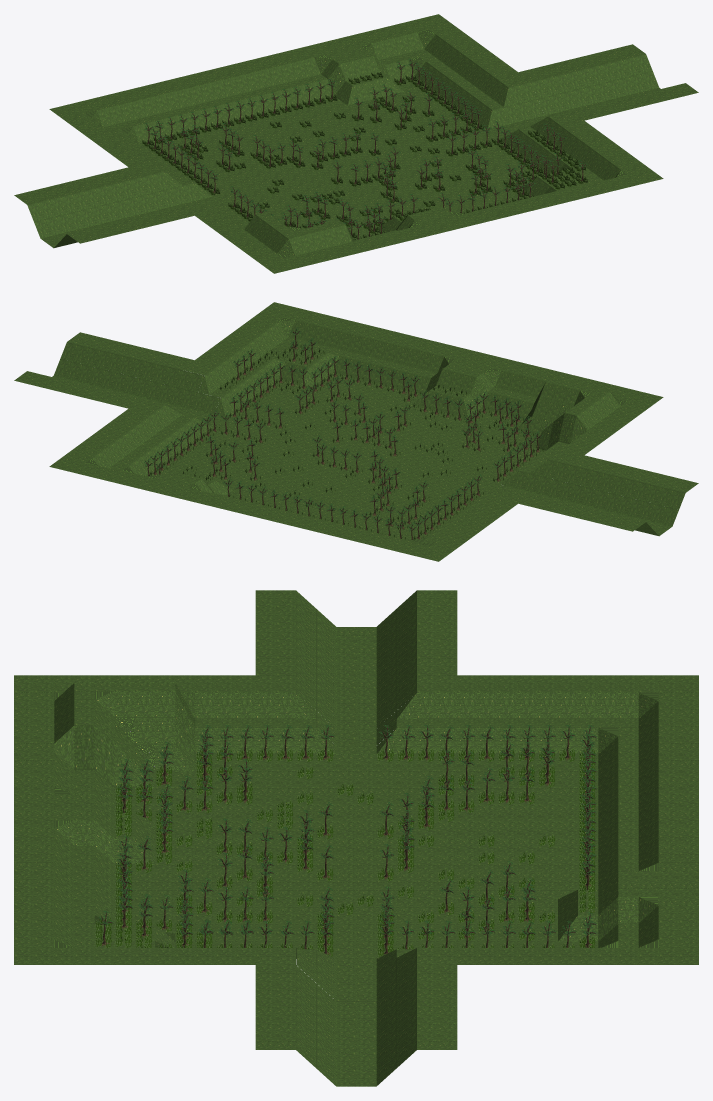
The model's file is forest4.fbx.
3 views of the same model, one above another, from view 1: azimuth 30°, elevation 25°; view 2: azimuth 150°, elevation 25°; view 3: azimuth 270°, elevation 25° (orthographic). The views are drawn at different scales.
Parts seen in each view (by area): view 1: Base; view 2: Base; view 3: Base.
Boxes of the visible parts, x1,y1,x2,y2 form: Base: (14,14,698,273); Base: (14,302,698,561); Base: (14,590,698,1086).
Size of the model in its own units: 10800 by 629 by 6800.
3 materials, 3 textured.
